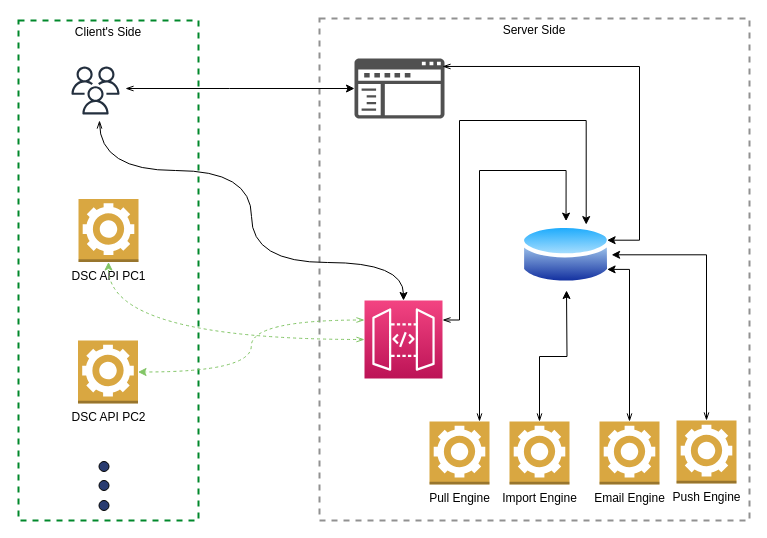
This 767x538 diagram has some shape labels left out. Each missing label, with the box of its shape:
Databases: (520, 221, 611, 288)
Passthrough API: (364, 300, 442, 378)
Portal: (354, 58, 444, 118)
Users: (64, 60, 126, 120)
